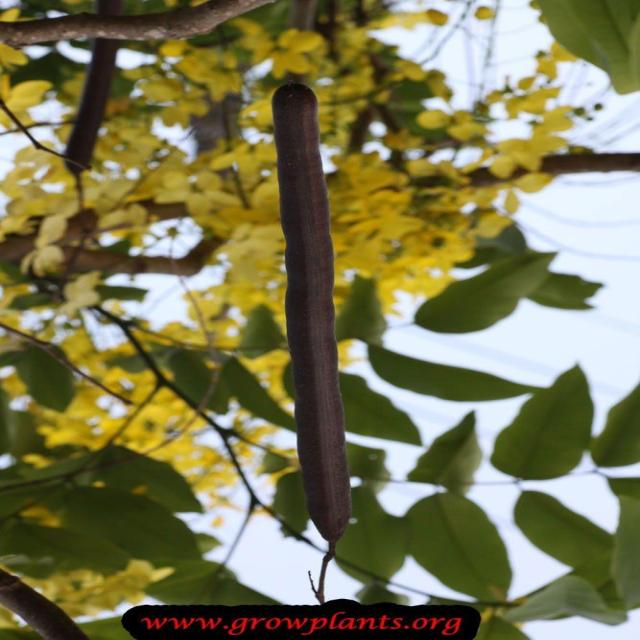Amaltas: (46, 21, 556, 572)
